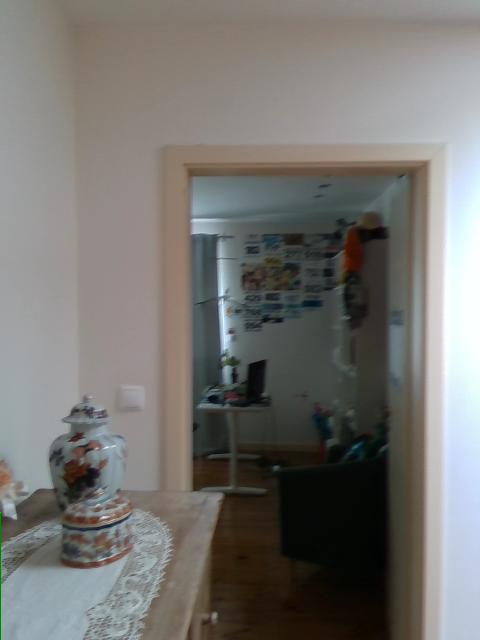open_door: (161, 140, 443, 639)
